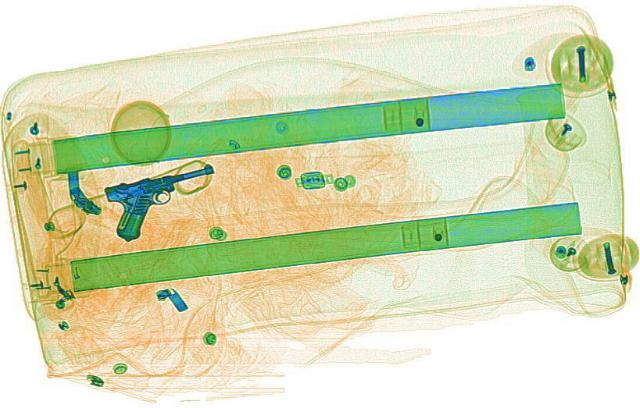Gun: (89, 163, 244, 239)
